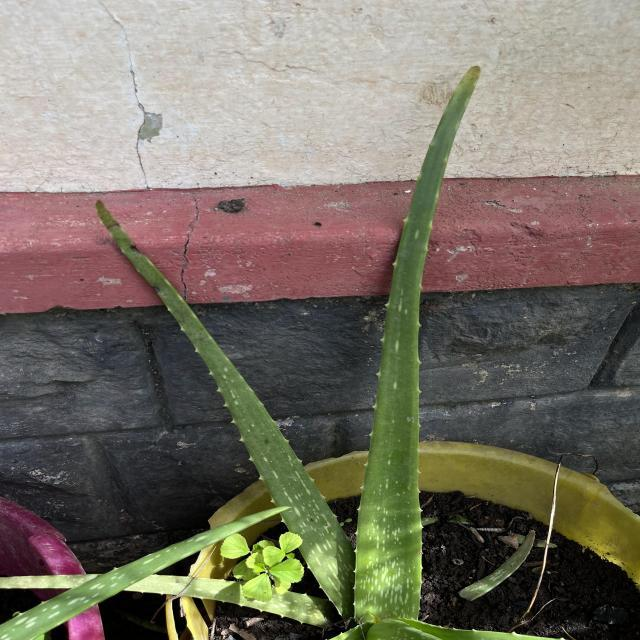Aloe vera: (350, 60, 487, 628)
